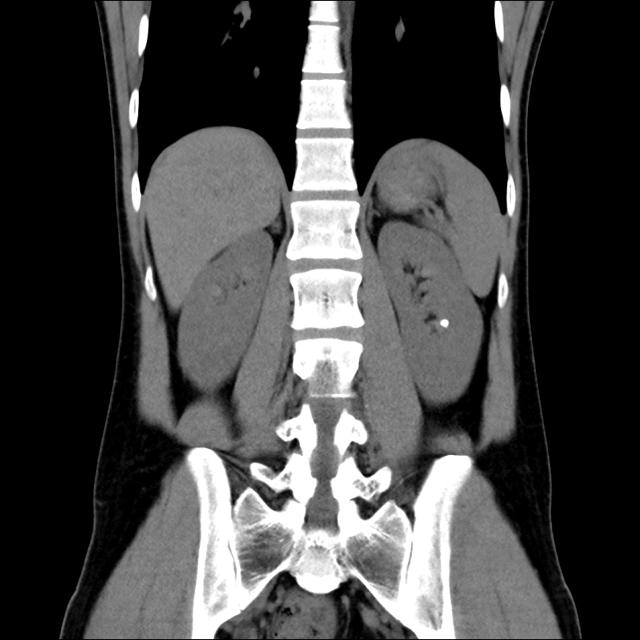kidneystone: (440, 319, 450, 328)
